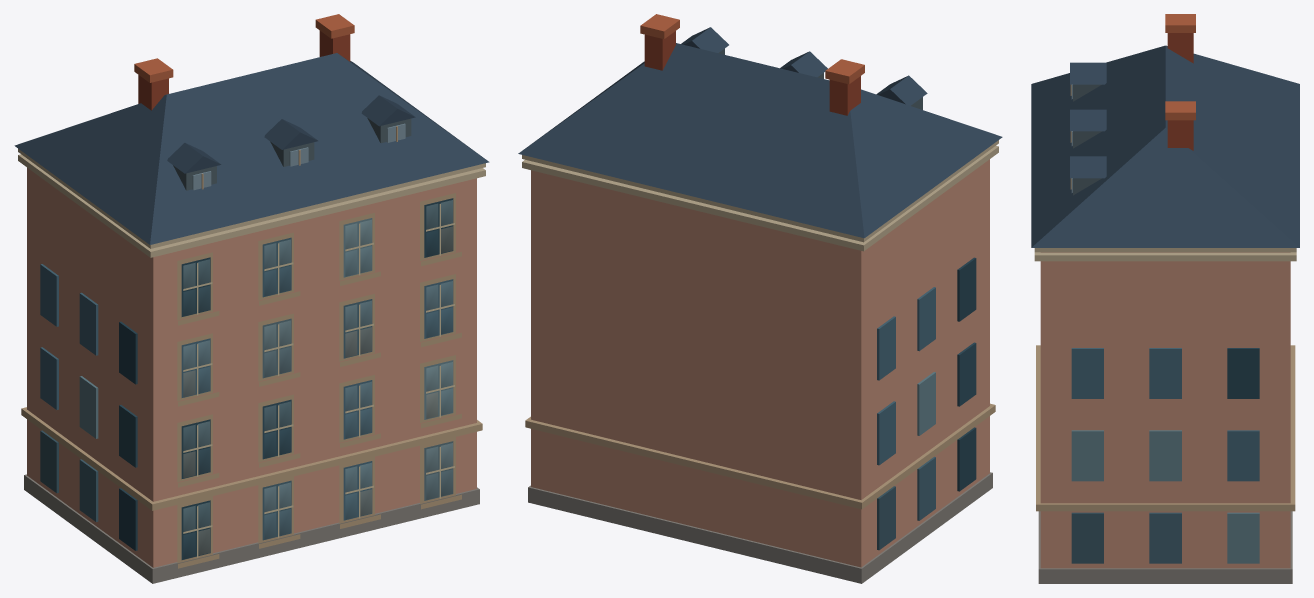
File: rose-tenement-distance.glb
The picture shows the model from 3 angles, left to right: view 1: azimuth 30°, elevation 25°; view 2: azimuth 150°, elevation 25°; view 3: azimuth 270°, elevation 25°; orthographic projection. The views are drawn at different scales.
Visible parts, largest first — view 1: rose-tenement-distance; view 2: rose-tenement-distance; view 3: rose-tenement-distance.
Boxes of the visible parts, x1=… form: rose-tenement-distance: x1=14, y1=14, x2=489, y2=583; rose-tenement-distance: x1=518, y1=14, x2=1002, y2=583; rose-tenement-distance: x1=1031, y1=14, x2=1299, y2=583.
Bounding box in the file's own units: 11.96 × 15.03 × 8.29.
